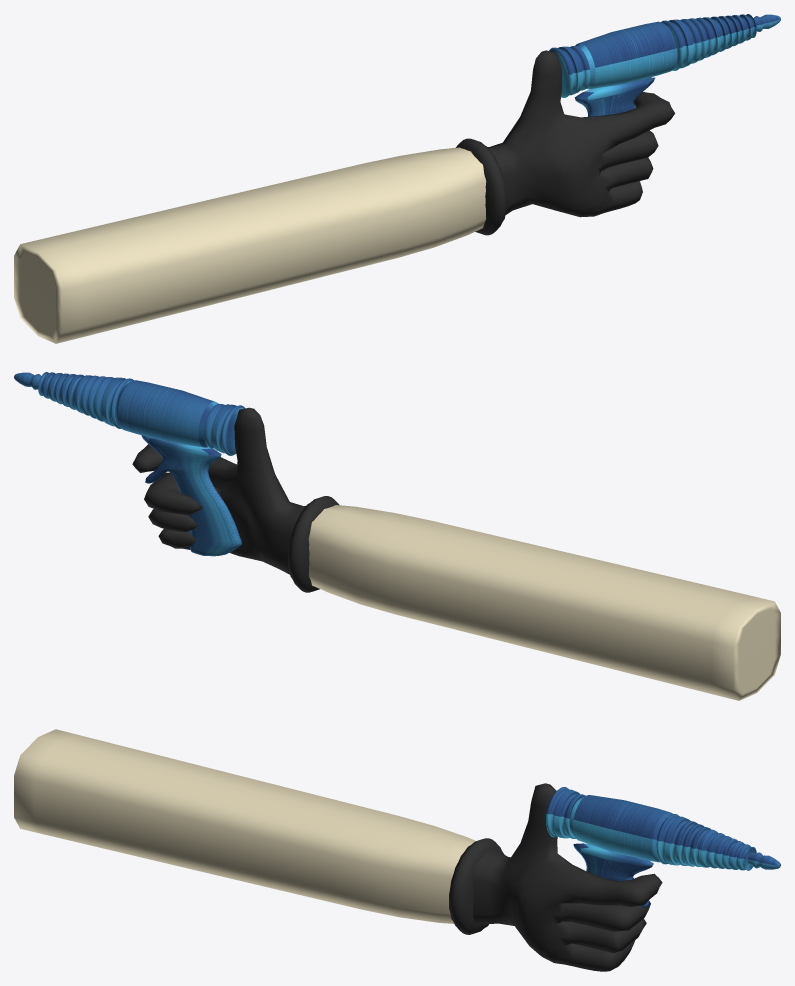
Rendered from Handgun2.fbx.
The picture shows the model from 3 angles, top to bottom: view 1: azimuth 30°, elevation 25°; view 2: azimuth 150°, elevation 25°; view 3: azimuth 330°, elevation 25°; orthographic projection.
Visible parts, largest first — view 1: pCube3; view 2: pCube3; view 3: pCube3.
Part boxes in pixels (x1=…): pCube3: x1=14, y1=14, x2=780, y2=343; pCube3: x1=14, y1=372, x2=780, y2=700; pCube3: x1=14, y1=729, x2=780, y2=971.
Bounding box in the file's own units: 32.23 × 6.85 × 3.73.
3 materials, 1 textured.
